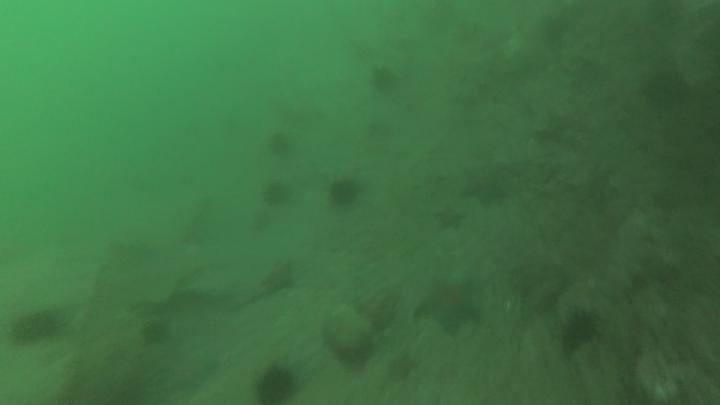echinus: (9, 306, 63, 347), (640, 68, 690, 112), (557, 308, 602, 356), (252, 363, 300, 404), (333, 335, 377, 372), (326, 175, 363, 209), (384, 352, 419, 385), (138, 317, 173, 348), (368, 64, 400, 96), (260, 179, 292, 209), (265, 130, 294, 159)
starfish: (413, 275, 485, 337), (164, 347, 222, 395), (458, 165, 509, 209), (258, 259, 298, 297), (431, 203, 468, 234)
